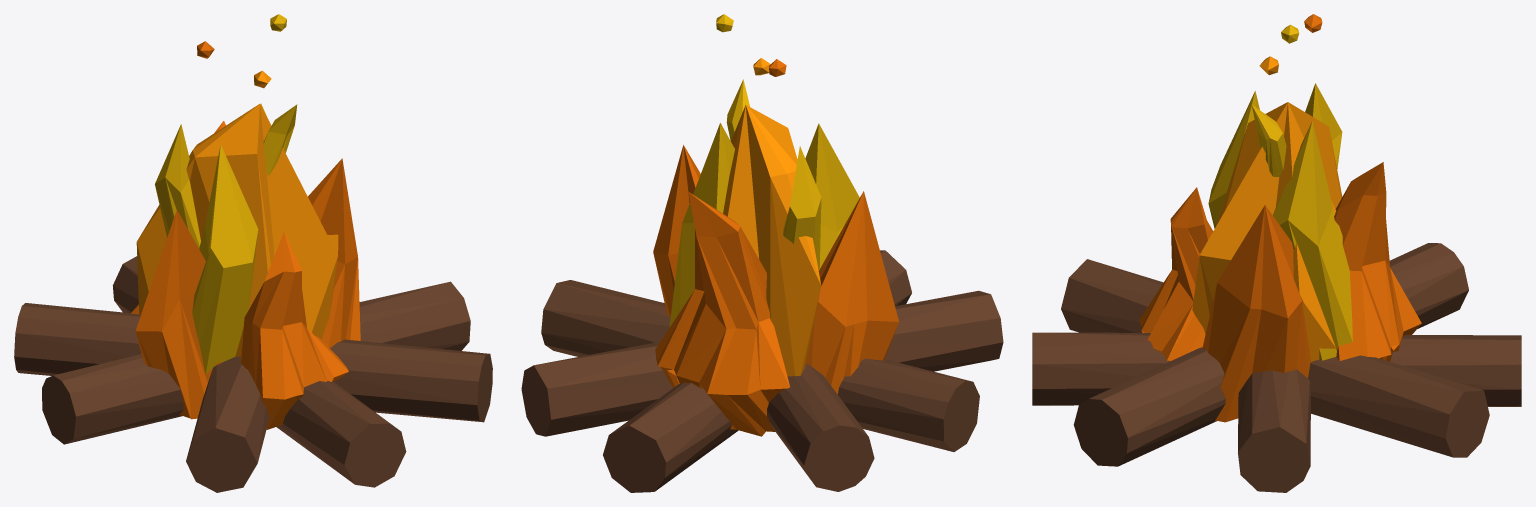
File: fire.dae
3 renders of one model, left to right at view 1: azimuth 30°, elevation 25°; view 2: azimuth 150°, elevation 25°; view 3: azimuth 270°, elevation 25°, orthographic. The views are drawn at different scales.
Visible parts, largest first — view 1: Logs, midFlame, dFlame2, yFlame1, dFlame4, dFlame3, yFlame3, yFlame4; view 2: Logs, dFlame1, midFlame, dFlame4, yFlame2, yFlame1, dFlame3, yFlame3, yFlame4; view 3: Logs, dFlame3, midFlame, dFlame1, yFlame2, dFlame2, yFlame1, yFlame4, yFlame3.
Boxes of the visible parts, x1=… form: Logs: x1=14, y1=256, x2=492, y2=492; midFlame: x1=136, y1=103, x2=338, y2=356; dFlame2: x1=240, y1=232, x2=348, y2=429; yFlame1: x1=192, y1=144, x2=258, y2=373; dFlame4: x1=135, y1=210, x2=220, y2=419; dFlame3: x1=308, y1=158, x2=360, y2=348; yFlame3: x1=155, y1=124, x2=200, y2=248; yFlame4: x1=263, y1=104, x2=297, y2=176; Logs: x1=521, y1=250, x2=1003, y2=492; dFlame1: x1=655, y1=192, x2=789, y2=436; midFlame: x1=723, y1=105, x2=821, y2=376; dFlame4: x1=806, y1=191, x2=898, y2=394; yFlame2: x1=669, y1=123, x2=734, y2=327; yFlame1: x1=805, y1=123, x2=859, y2=268; dFlame3: x1=653, y1=145, x2=700, y2=317; yFlame3: x1=783, y1=146, x2=821, y2=270; yFlame4: x1=726, y1=79, x2=749, y2=140; Logs: x1=1032, y1=243, x2=1521, y2=492; dFlame3: x1=1202, y1=205, x2=1310, y2=422; midFlame: x1=1192, y1=102, x2=1342, y2=361; dFlame1: x1=1334, y1=162, x2=1421, y2=361; yFlame2: x1=1273, y1=121, x2=1352, y2=360; dFlame2: x1=1139, y1=187, x2=1213, y2=361; yFlame1: x1=1208, y1=91, x2=1259, y2=228; yFlame4: x1=1251, y1=105, x2=1286, y2=176; yFlame3: x1=1305, y1=83, x2=1342, y2=168.
Size of the model in its own units: 2.3 by 2.39 by 2.12.
